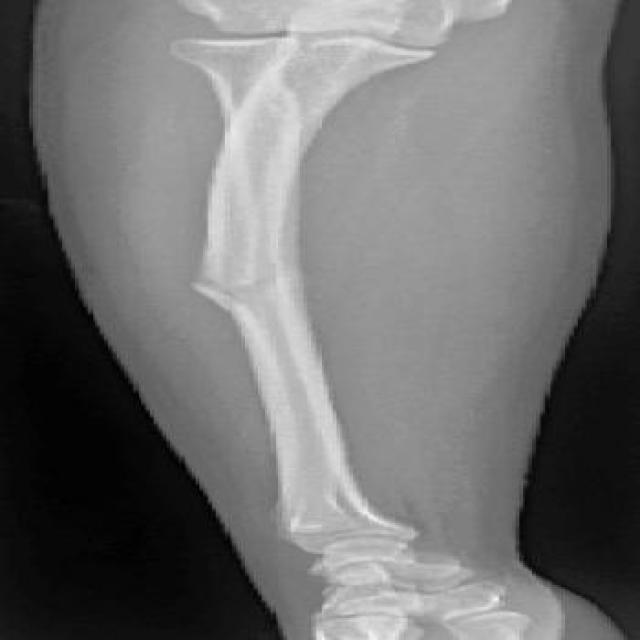Fracture: (154, 262, 307, 319)
